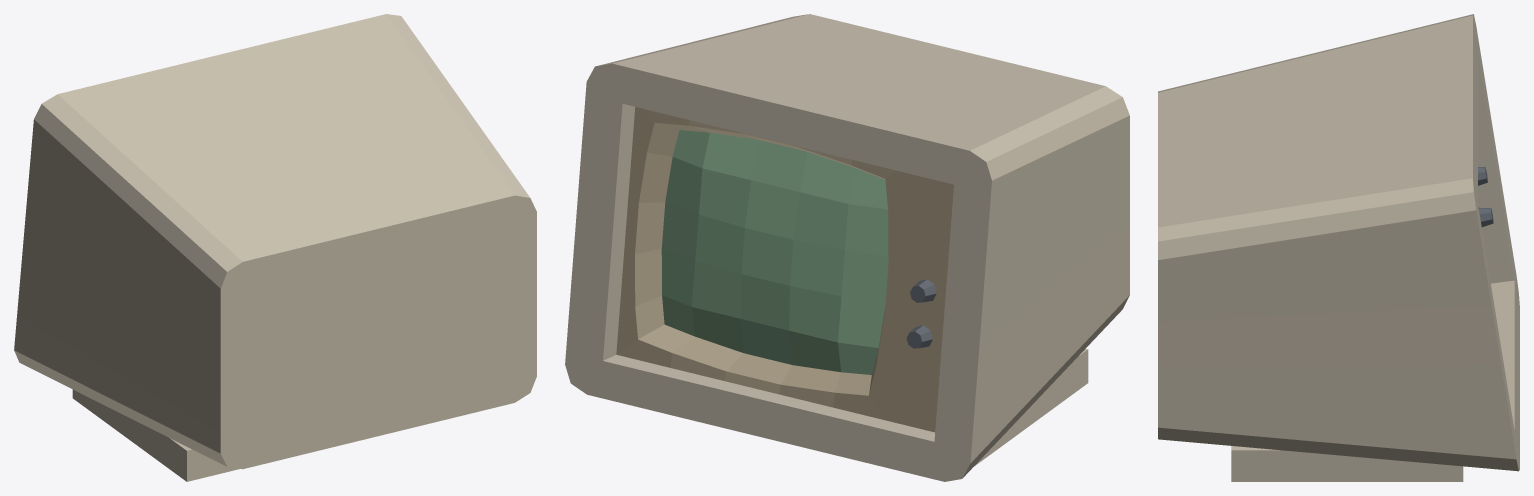
The model's file is Monitor.fbx.
3 renders of one model, left to right at view 1: azimuth 30°, elevation 25°; view 2: azimuth 150°, elevation 25°; view 3: azimuth 270°, elevation 25°, orthographic. The views are drawn at different scales.
Parts seen in each view (by area): view 1: Plane.071; view 2: Plane.071, Plane.072; view 3: Plane.071.
Boxes of the visible parts, left/top/right/bottom form: Plane.071: left=14, top=14, right=536, bottom=481; Plane.071: left=565, top=14, right=1129, bottom=481; Plane.072: left=661, top=130, right=888, bottom=374; Plane.071: left=1158, top=14, right=1519, bottom=481.
Bounding box in the file's own units: 1.14 × 0.9463 × 0.8874.
